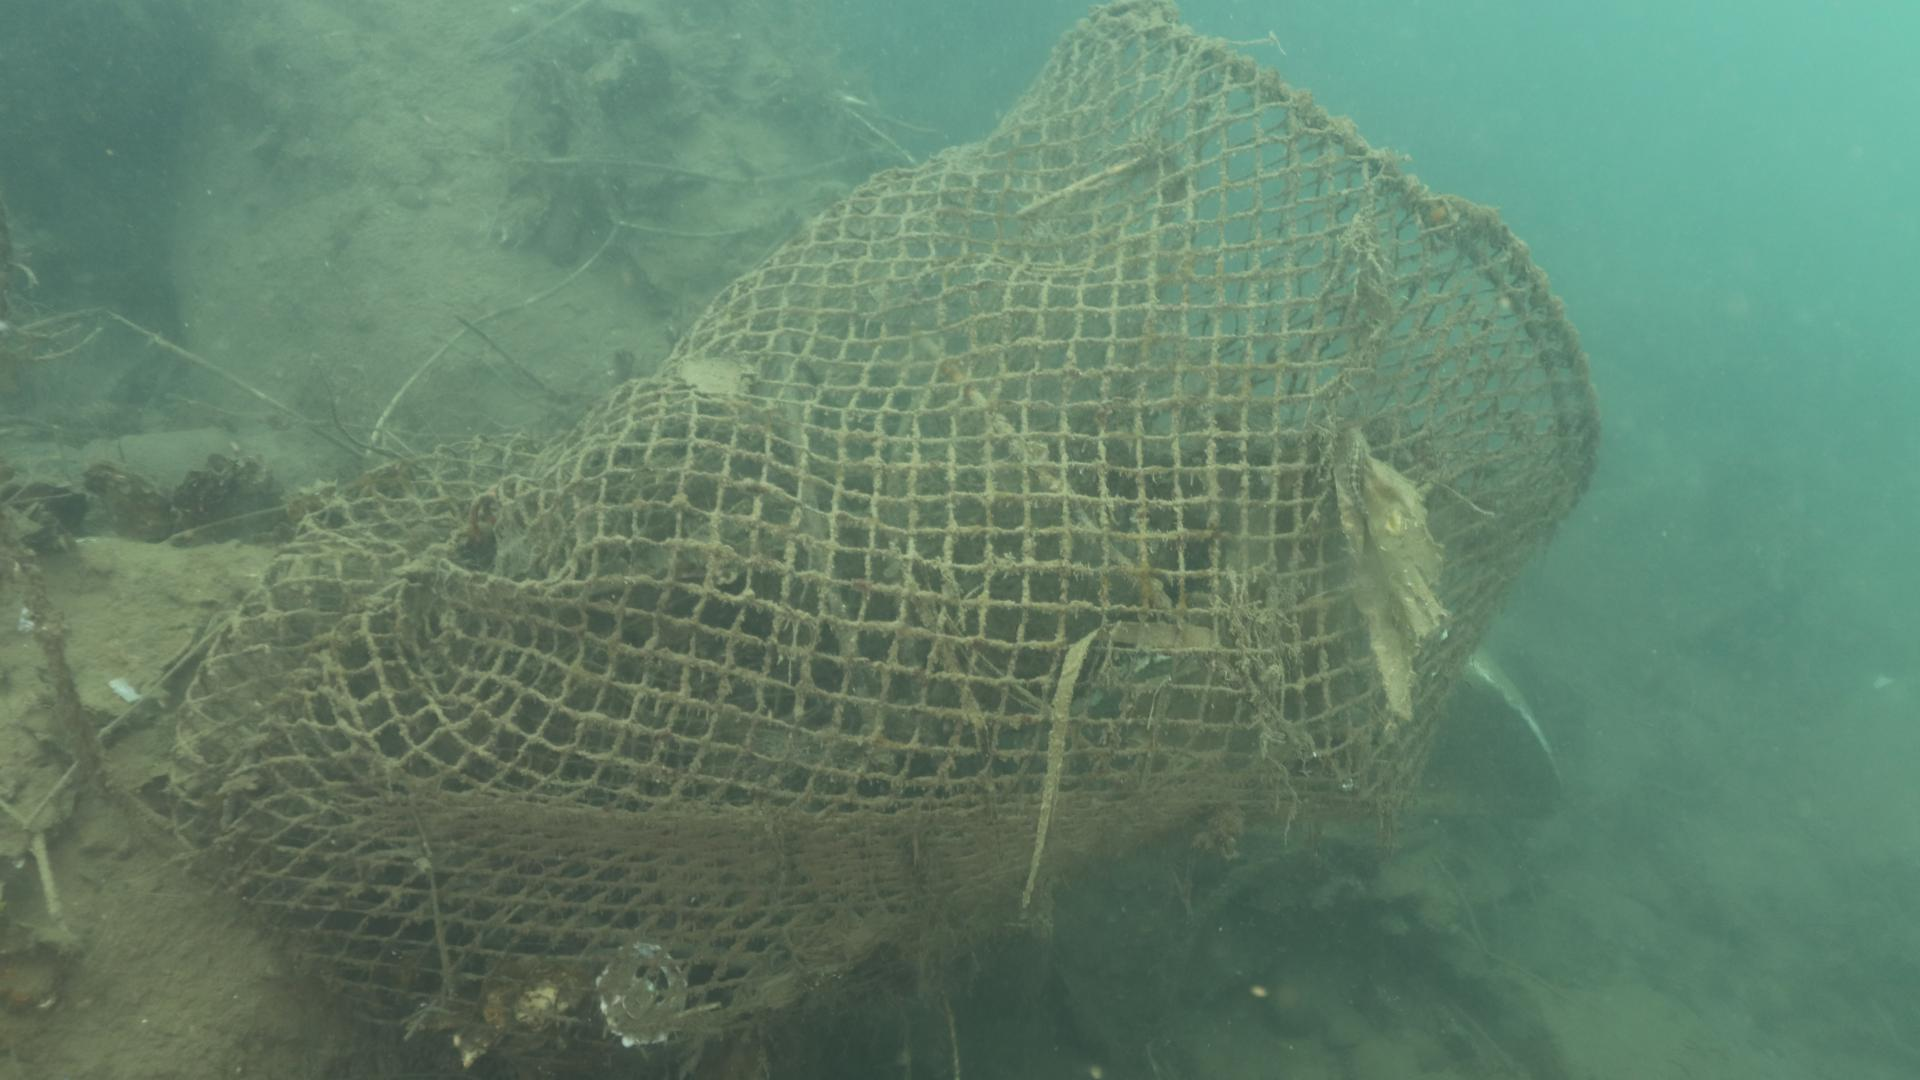spring fish trap: (165, 0, 1602, 1080)
